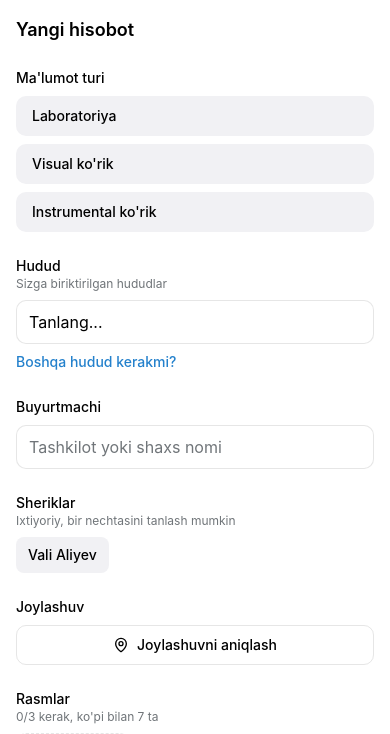
shartli maydonlar › uchastkalar maydoni faqat laboratoriya uchun chiqadi
Expected: the text "Uchastkalar soni" is not shown
Click the button "Laboratoriya" at point(74, 116), box [16, 96, 374, 136]
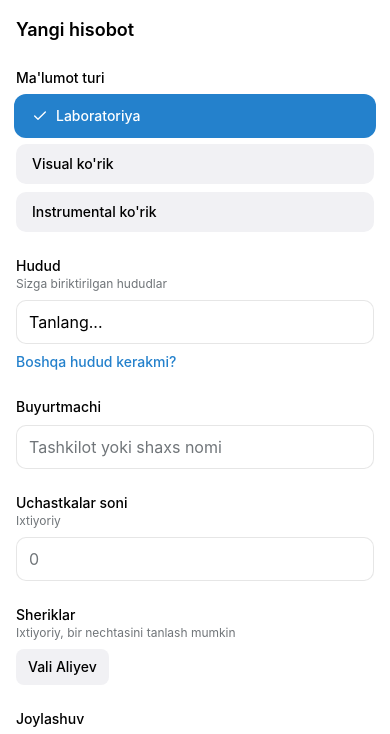
Now the heading "Uchastkalar soni" is shown, box [16, 494, 128, 511]
Click the button "Visual ko'rik" at point(73, 164), box [16, 144, 374, 184]
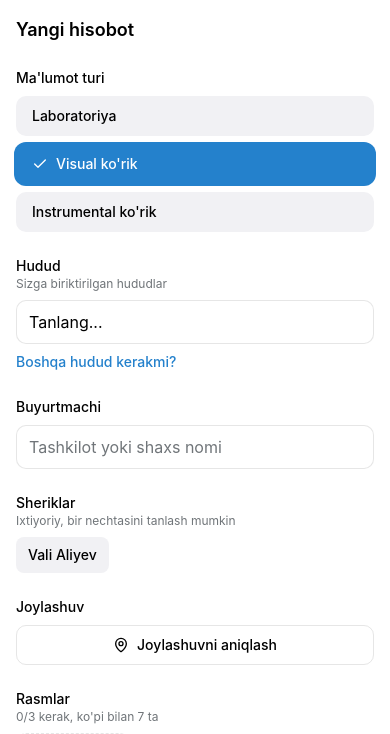
Now the heading "Uchastkalar soni" is gone
